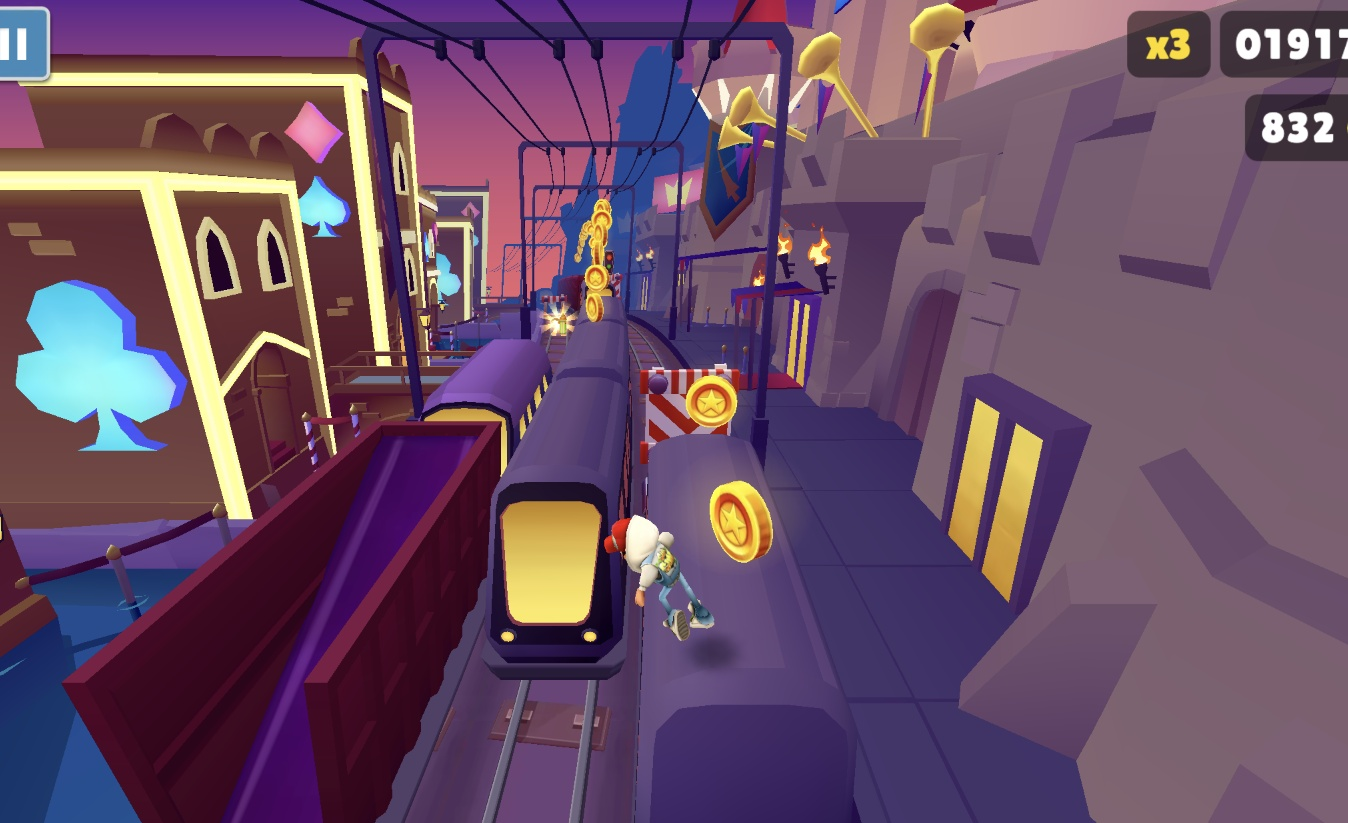overhead_barrier: (640, 366, 742, 471), (601, 277, 621, 298)
train: (62, 421, 503, 823), (638, 435, 859, 823), (476, 292, 635, 681), (422, 337, 552, 481), (557, 276, 587, 313)
